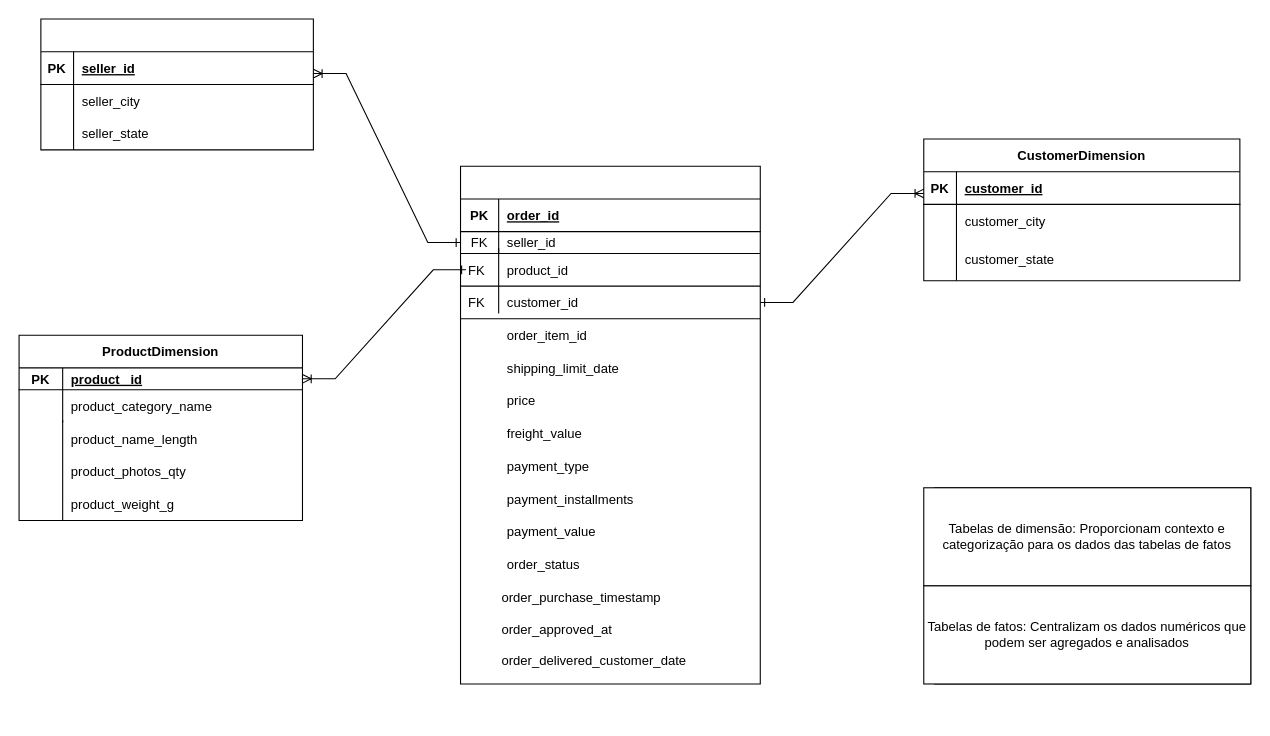
Some shapes in this 1270 by 736 pixel diagram are drawn without their labels. Each missing label, with the box of its shape:
OrderFact: (459, 165, 760, 684)
SellerDimension: (40, 18, 313, 150)
